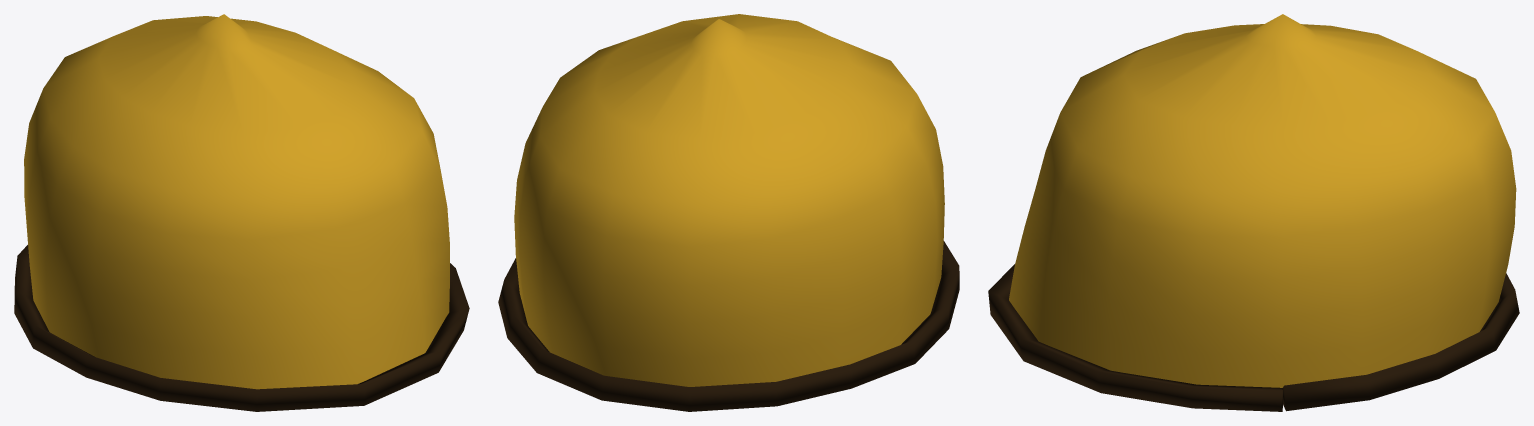
The model's file is bee_armor_head.glb.
The picture shows the model from 3 angles, left to right: view 1: azimuth 30°, elevation 25°; view 2: azimuth 150°, elevation 25°; view 3: azimuth 270°, elevation 25°; orthographic projection. The views are drawn at different scales.
Parts seen in each view (by area): view 1: bee_armor_head; view 2: bee_armor_head; view 3: bee_armor_head.
Part boxes in pixels (left/top/right/bottom): bee_armor_head: left=14, top=14, right=469, bottom=411; bee_armor_head: left=498, top=14, right=959, bottom=411; bee_armor_head: left=988, top=14, right=1519, bottom=411.
Bounding box in the file's own units: 0.2443 × 0.1754 × 0.2799.
